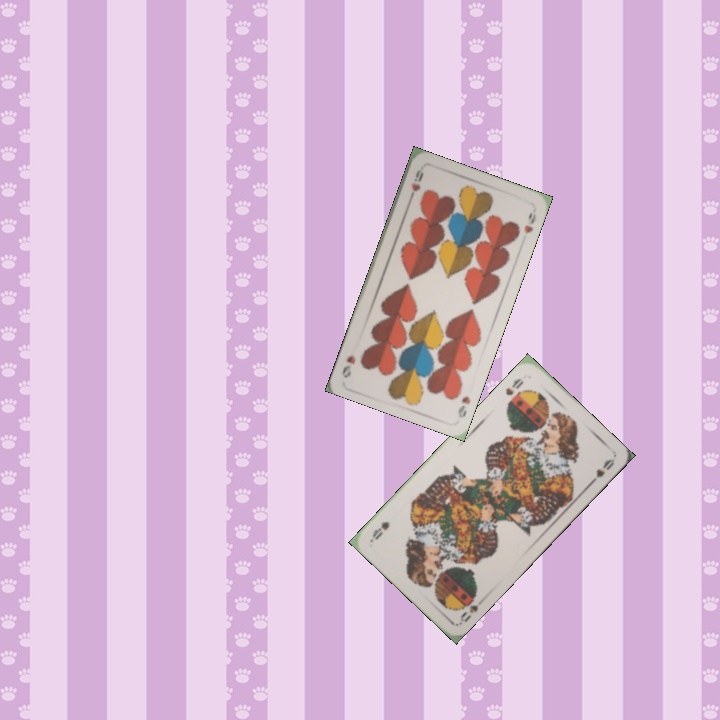H9: (405, 164, 426, 204), (454, 392, 473, 420)
SO: (455, 588, 488, 626), (501, 374, 526, 398)
